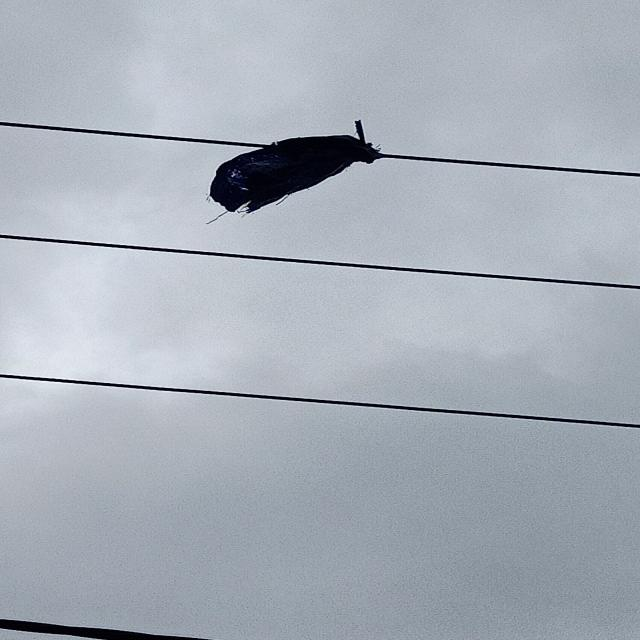植被遮挡: (184, 117, 409, 224)
